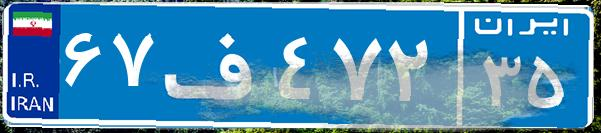2: (385, 28, 445, 110)
3: (475, 38, 525, 113)
4: (273, 28, 330, 110)
5: (525, 38, 570, 115)
6: (57, 26, 110, 107)
7: (330, 28, 385, 110), (110, 28, 158, 105)
ف: (158, 15, 273, 115)
